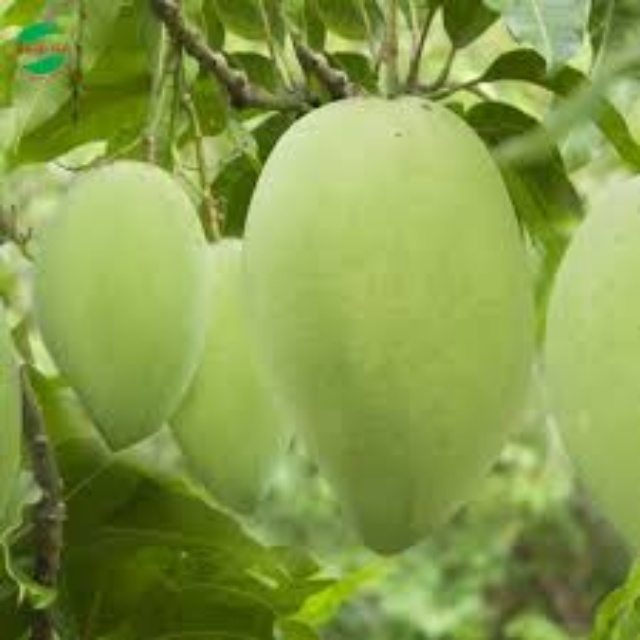thanh_long: (234, 71, 531, 569), (25, 154, 201, 456)
